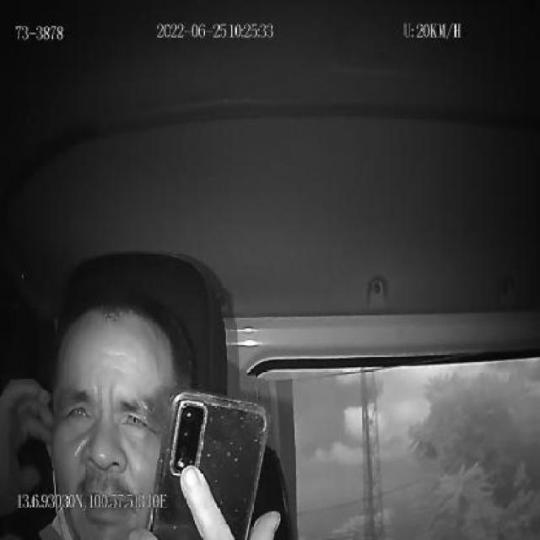phone: (149, 389, 269, 540)
